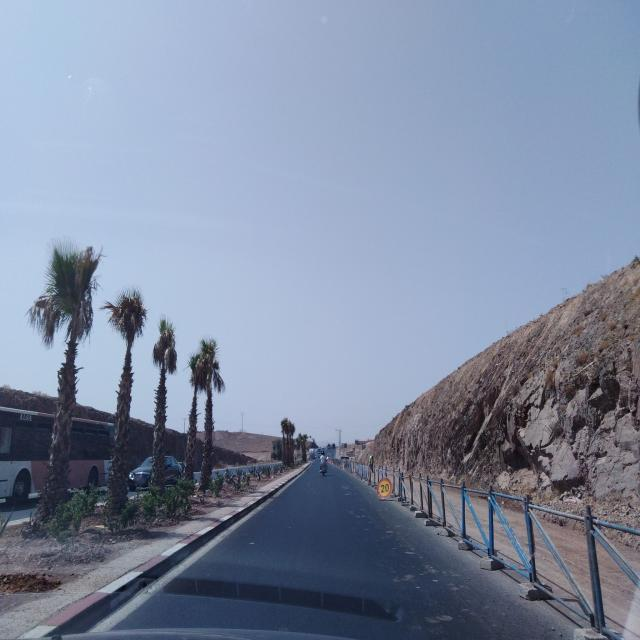car: (128, 454, 182, 492)
